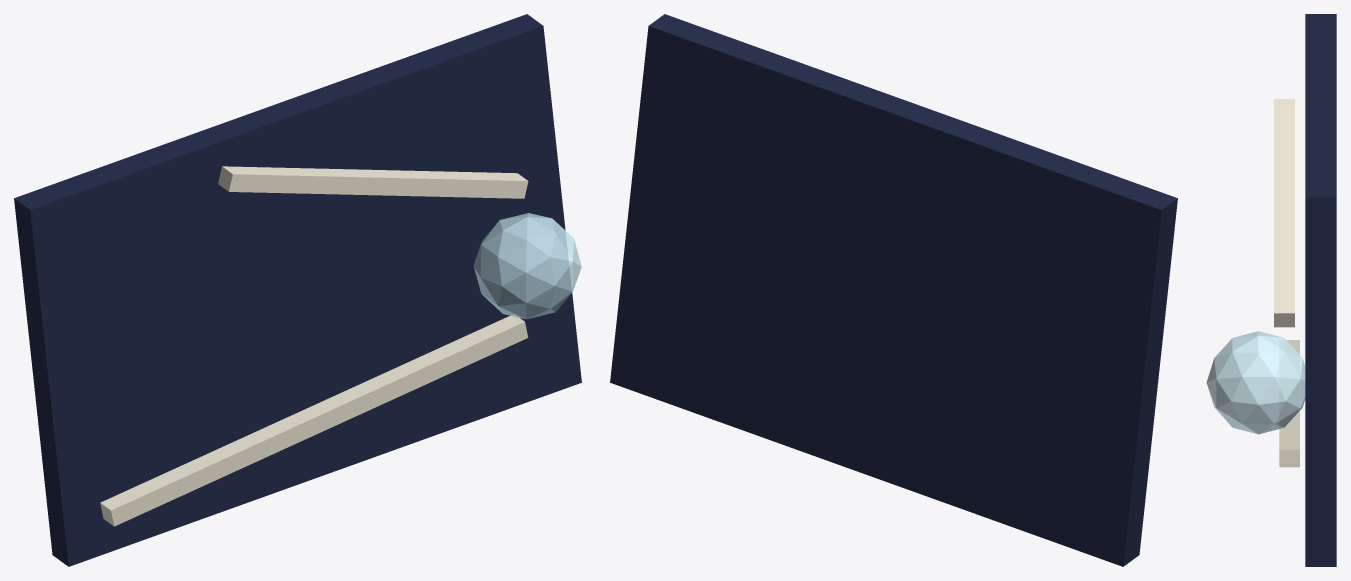
File: 02_world_prop_polish.glb
The picture shows the model from 3 angles, left to right: view 1: azimuth 30°, elevation 25°; view 2: azimuth 150°, elevation 25°; view 3: azimuth 270°, elevation 25°; orthographic projection. The views are drawn at different scales.
Visible parts, largest first — view 1: object_overlay_plate, edge_wear_a, glow_socket, edge_wear_b; view 2: object_overlay_plate; view 3: object_overlay_plate, glow_socket, edge_wear_b, edge_wear_a.
Boxes of the visible parts, x1,y1,x2,y2 form: object_overlay_plate: (14,14,581,566); edge_wear_a: (100,315,528,526); glow_socket: (473,213,581,319); edge_wear_b: (218,166,528,198); object_overlay_plate: (610,14,1177,566); object_overlay_plate: (1305,14,1336,566); glow_socket: (1206,331,1305,434); edge_wear_b: (1274,99,1294,327); edge_wear_a: (1279,340,1299,467).
Size of the model in its own units: 1.18 by 0.8658 by 0.25.
